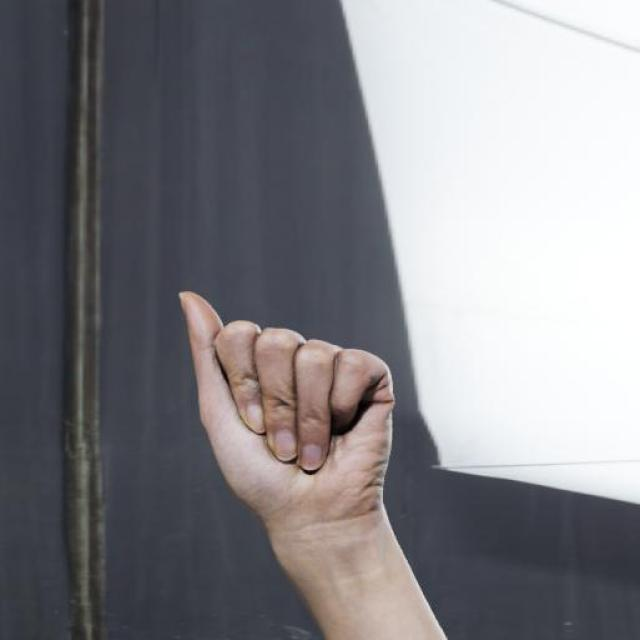A: (174, 285, 401, 537)
